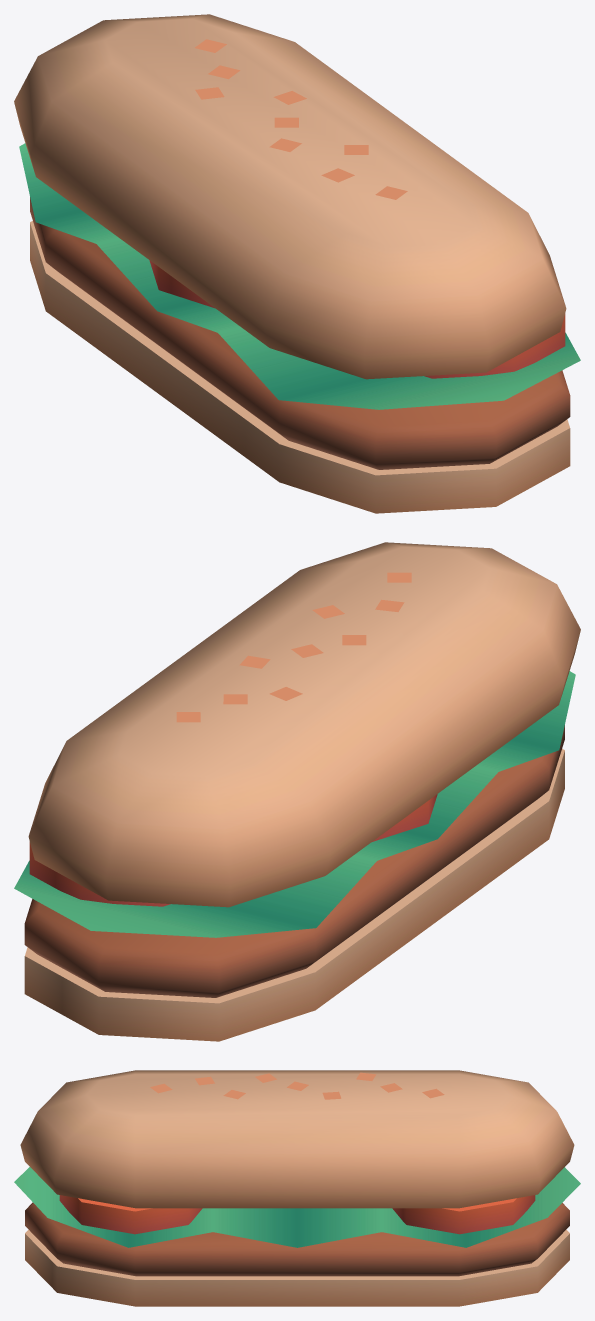
The model's file is kenney-food-sub.glb.
3 views of the same model, one above another, from view 1: azimuth 30°, elevation 25°; view 2: azimuth 150°, elevation 25°; view 3: azimuth 270°, elevation 25° (orthographic). The views are drawn at different scales.
Visible parts, largest first — view 1: bun-bottom; view 2: bun-bottom; view 3: bun-bottom.
Boxes of the visible parts, x1,y1,x2,y2 form: bun-bottom: (14,14,580,513); bun-bottom: (14,542,580,1041); bun-bottom: (14,1070,580,1306).
Size of the model in its own units: 0.2827 by 0.2225 by 0.6756.
Materials: 1 (1 with a texture image).
